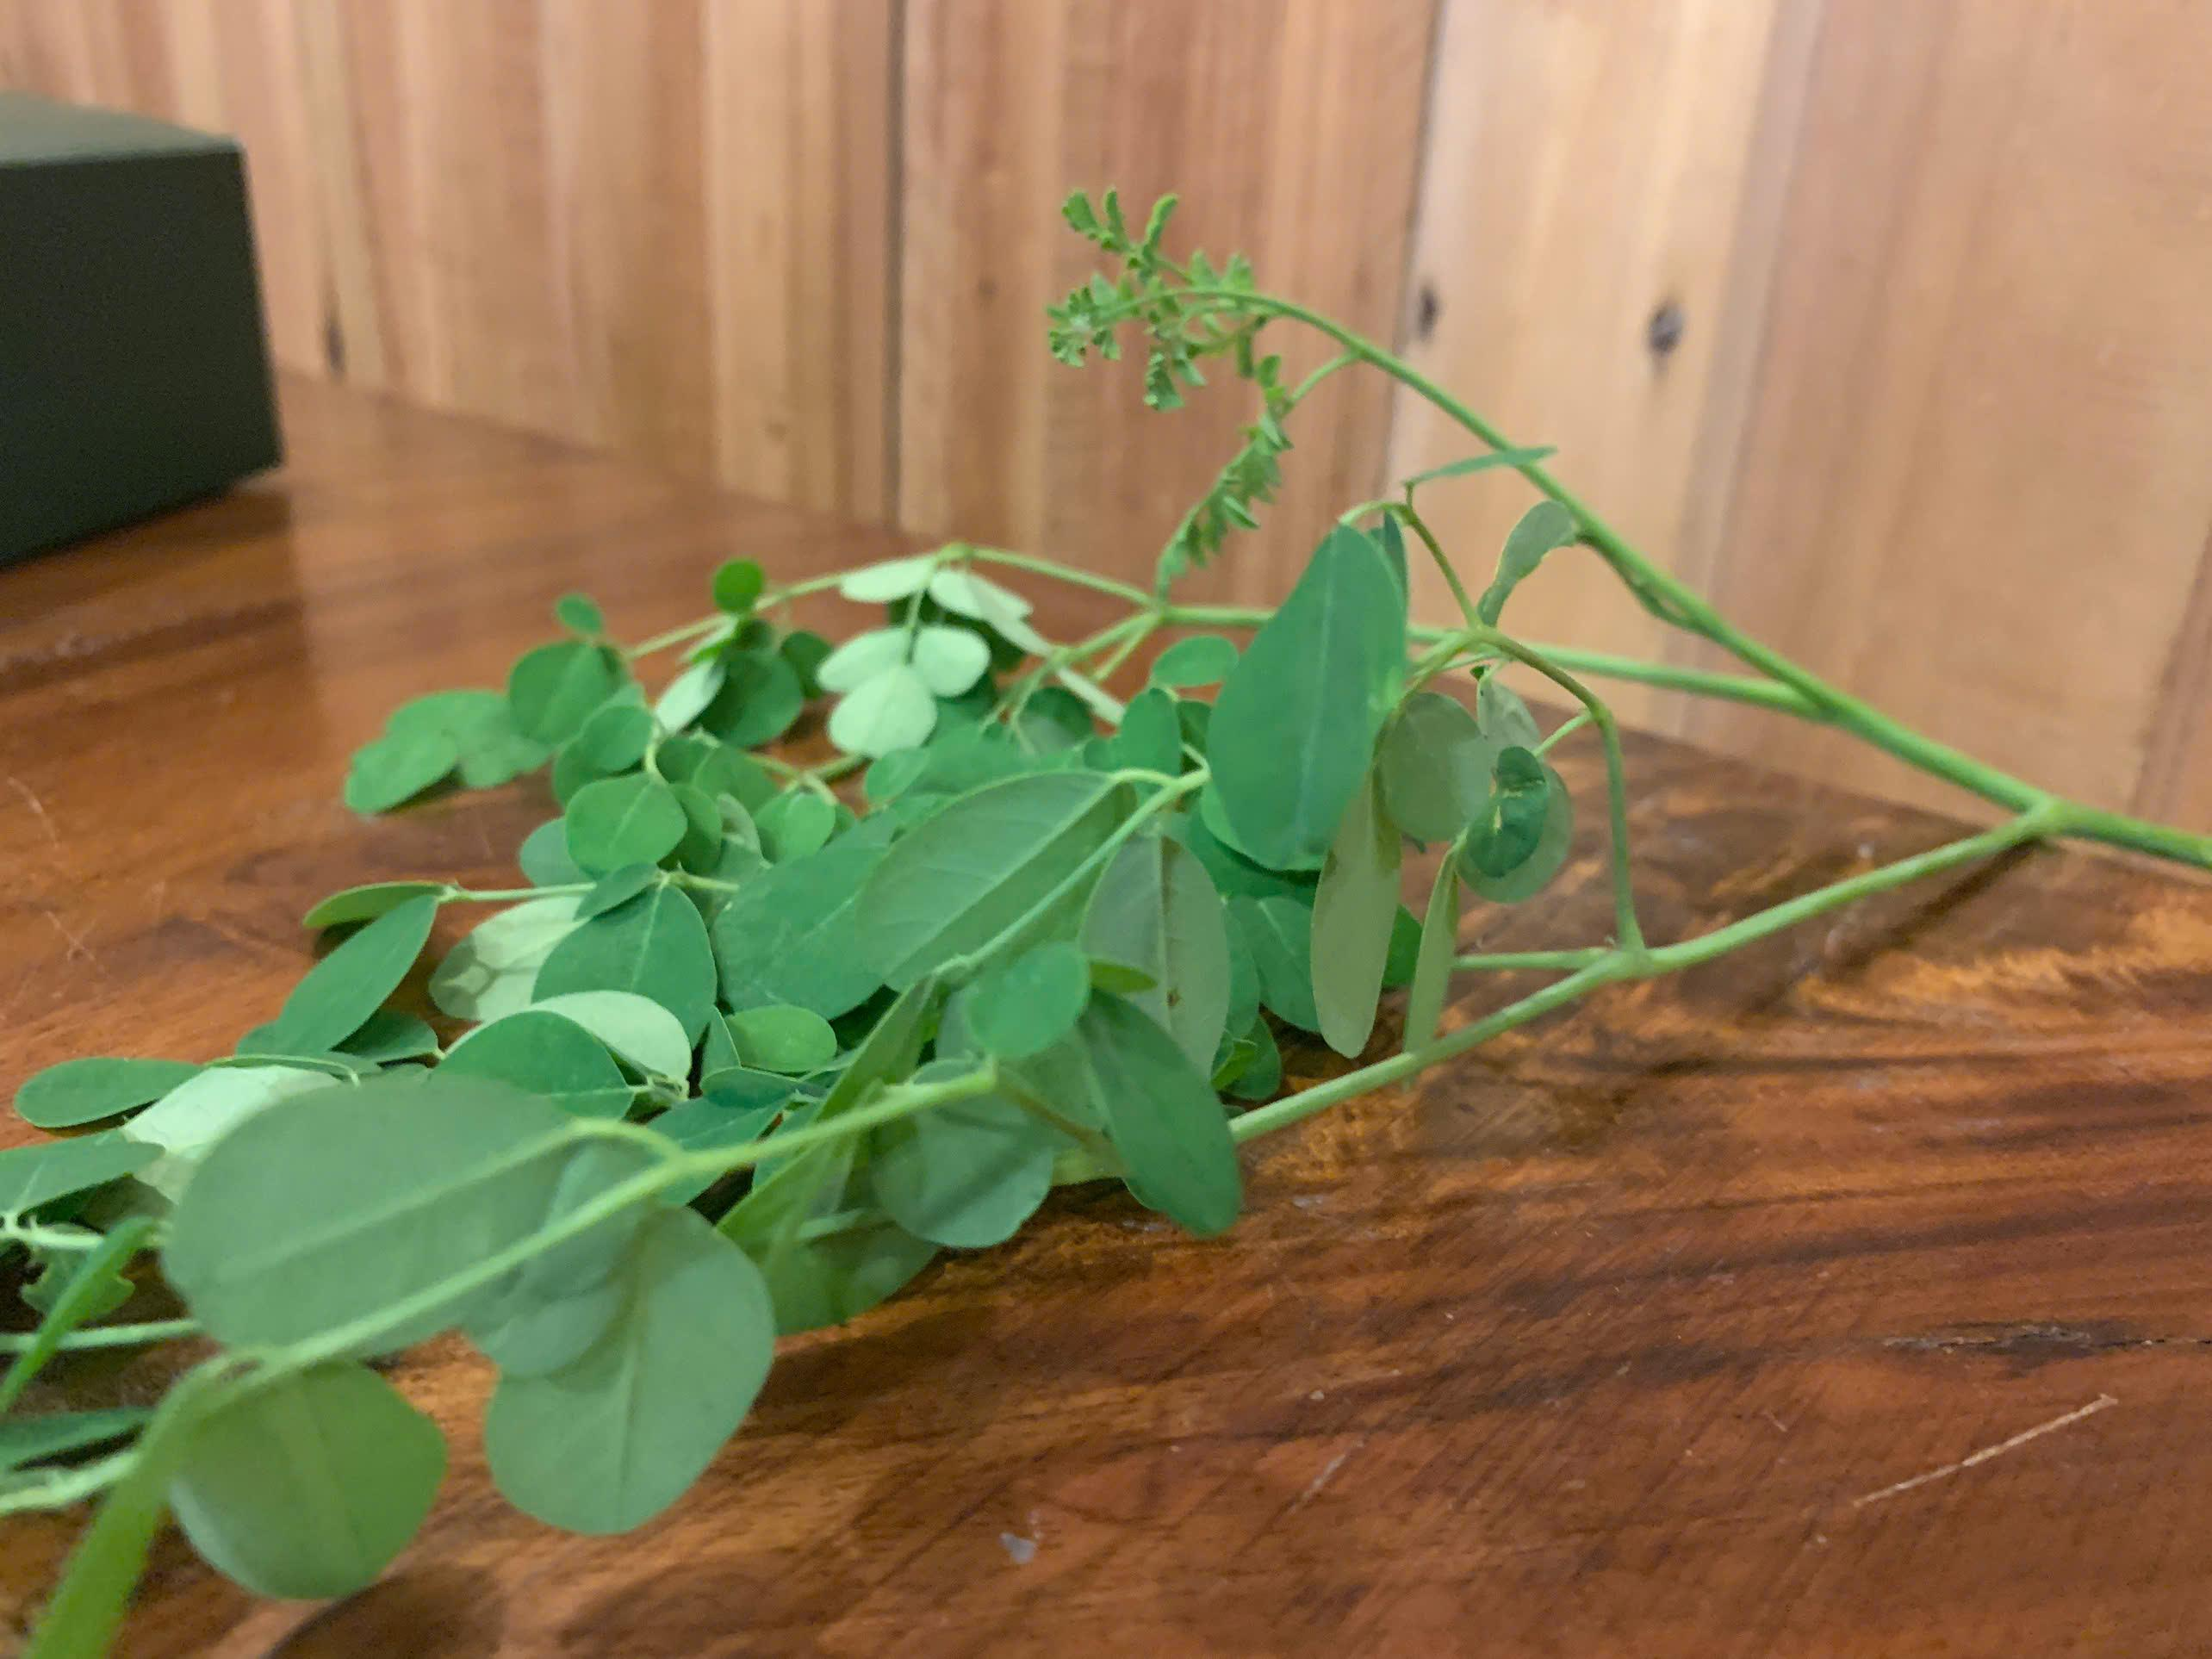Huu co: (23, 544, 1956, 1551)
